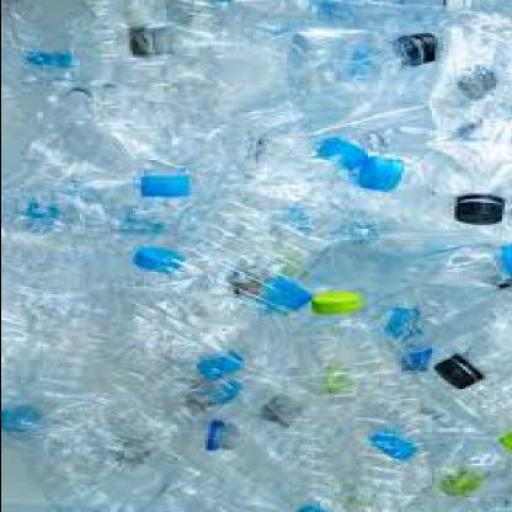plastic: (1, 1, 511, 512), (143, 137, 378, 354), (92, 22, 437, 166), (2, 84, 140, 439), (140, 26, 440, 171), (266, 251, 511, 427), (30, 356, 246, 510), (389, 248, 511, 392), (322, 328, 484, 434), (158, 421, 328, 511), (244, 394, 369, 511), (385, 114, 511, 226), (76, 2, 176, 89), (75, 2, 171, 89), (439, 110, 511, 226), (402, 437, 511, 511), (179, 2, 443, 28), (2, 2, 82, 84), (445, 294, 511, 388), (439, 28, 511, 111), (2, 276, 79, 348), (364, 422, 416, 508), (244, 352, 336, 394), (381, 226, 506, 248), (464, 386, 512, 434), (439, 1, 511, 32), (358, 157, 409, 191), (322, 138, 372, 171), (456, 196, 509, 225), (375, 428, 420, 462), (442, 360, 484, 392), (134, 249, 187, 274), (313, 292, 366, 317), (142, 175, 196, 199), (402, 34, 440, 68), (461, 67, 501, 97), (440, 469, 482, 497), (207, 354, 246, 380), (475, 320, 511, 346), (5, 414, 45, 436), (210, 417, 232, 454), (445, 2, 476, 19)
